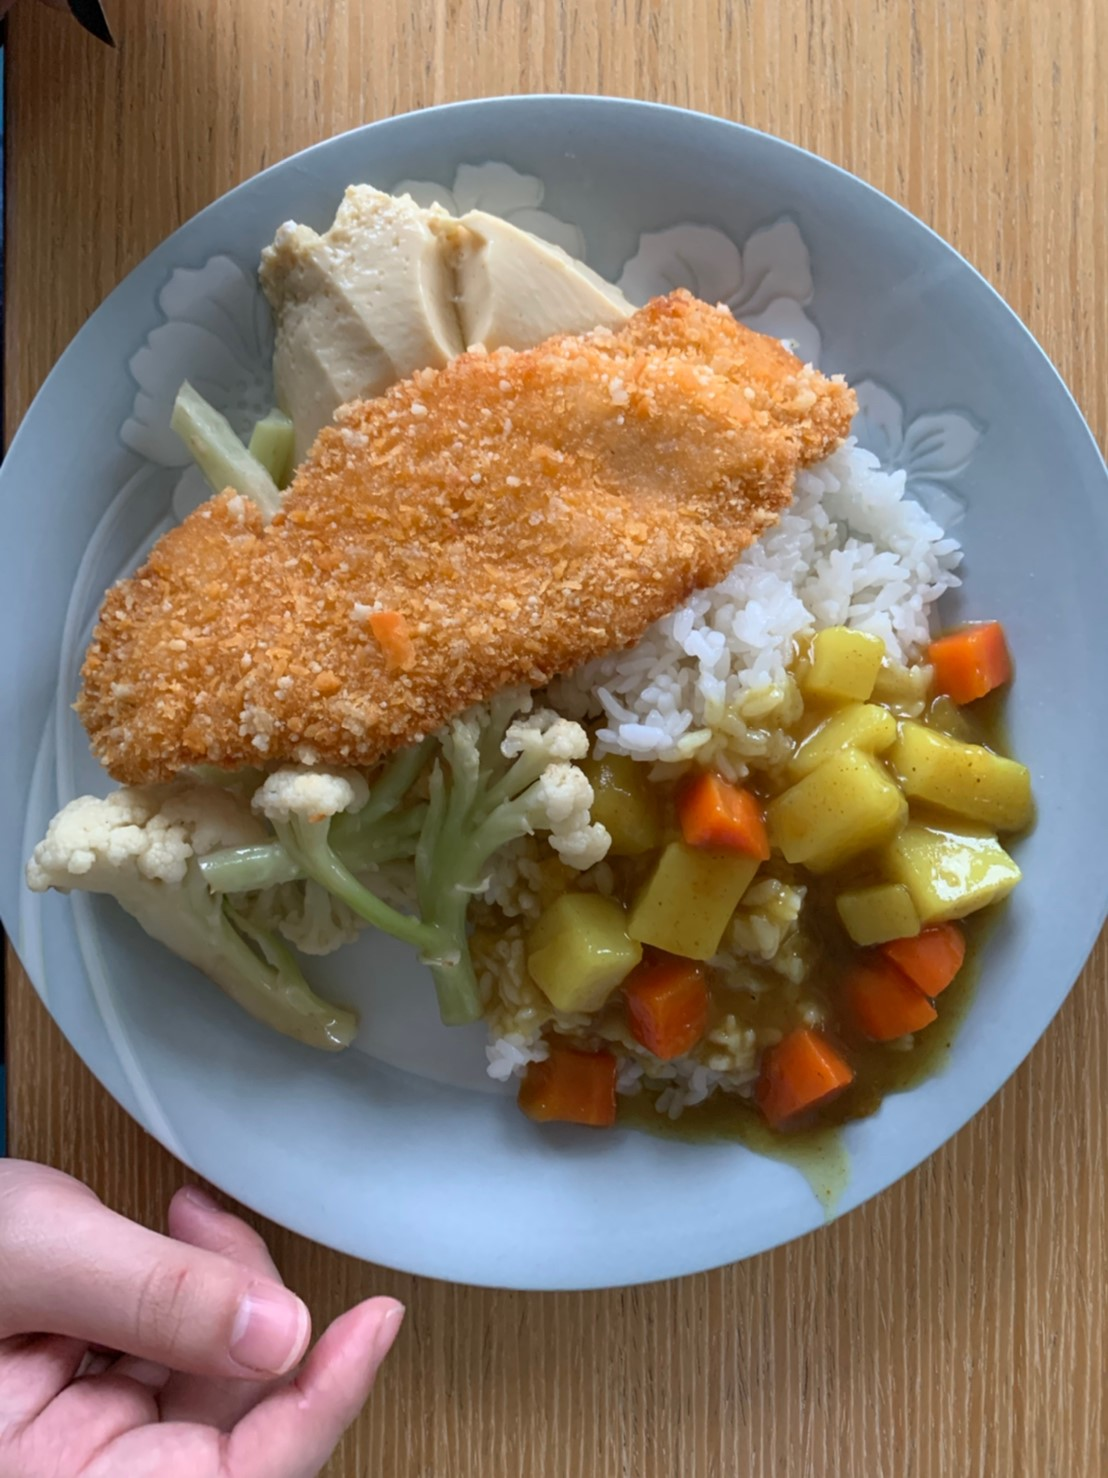curry: (498, 625, 1032, 1137)
fried_chicken: (70, 285, 867, 779)
rice: (589, 445, 963, 748)
